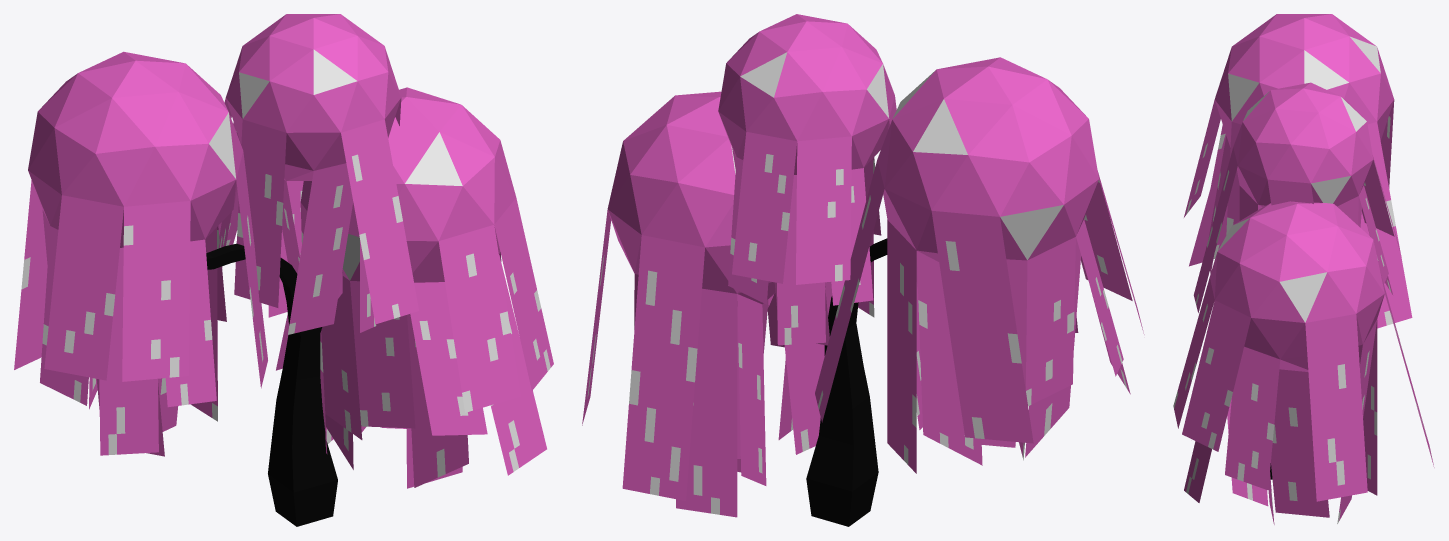
Rendered from SakuraTree.fbx.
The picture shows the model from 3 angles, left to right: view 1: azimuth 30°, elevation 25°; view 2: azimuth 150°, elevation 25°; view 3: azimuth 270°, elevation 25°; orthographic projection. The views are drawn at different scales.
Parts seen in each view (by area): view 1: leafs, leafs.002, leafs.001, Tree; view 2: leafs, leafs.002, leafs.001, Tree; view 3: leafs.002, leafs, leafs.001.
Part boxes in pixels (x1,y1,x2,y2): leafs: (14,51,267,456); leafs.002: (276,87,553,488); leafs.001: (218,14,419,334); Tree: (206,243,337,526); leafs: (815,57,1144,473); leafs.002: (582,91,824,517); leafs.001: (718,14,896,345); Tree: (806,238,887,526); leafs.002: (1173,201,1434,524); leafs: (1184,14,1412,328); leafs.001: (1193,82,1401,312).
Size of the model in its own units: 381 by 351 by 211.
